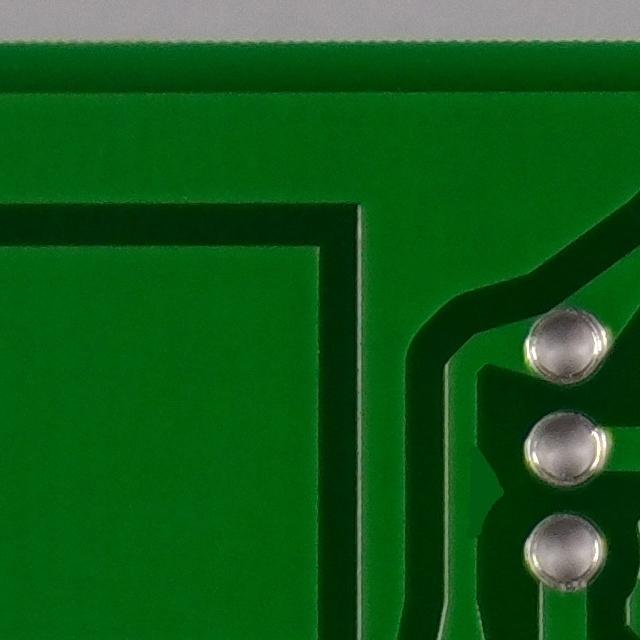spur: (437, 429, 518, 550)
